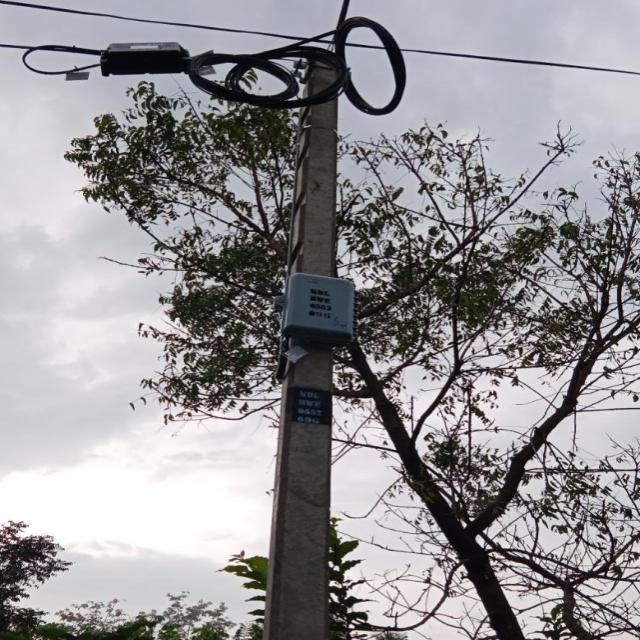light_pole: (263, 25, 338, 640)
